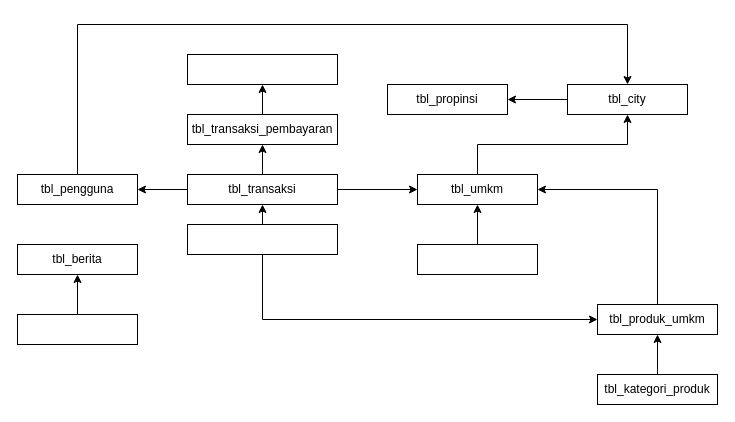
Some shapes in this 735 by 422 pixel diagram are drawn without their labels. The shapes that lost their labels are listed below. From the top down, each one's centre as x and y in pixels, then its label:
At point (262, 69): "tbl_transaksi_kerjasama".
At point (262, 239): "tbl_transaksi_detail".
At point (477, 259): "tbl_kategori_umkm".
At point (77, 329): "tbl_berita_kategori".
